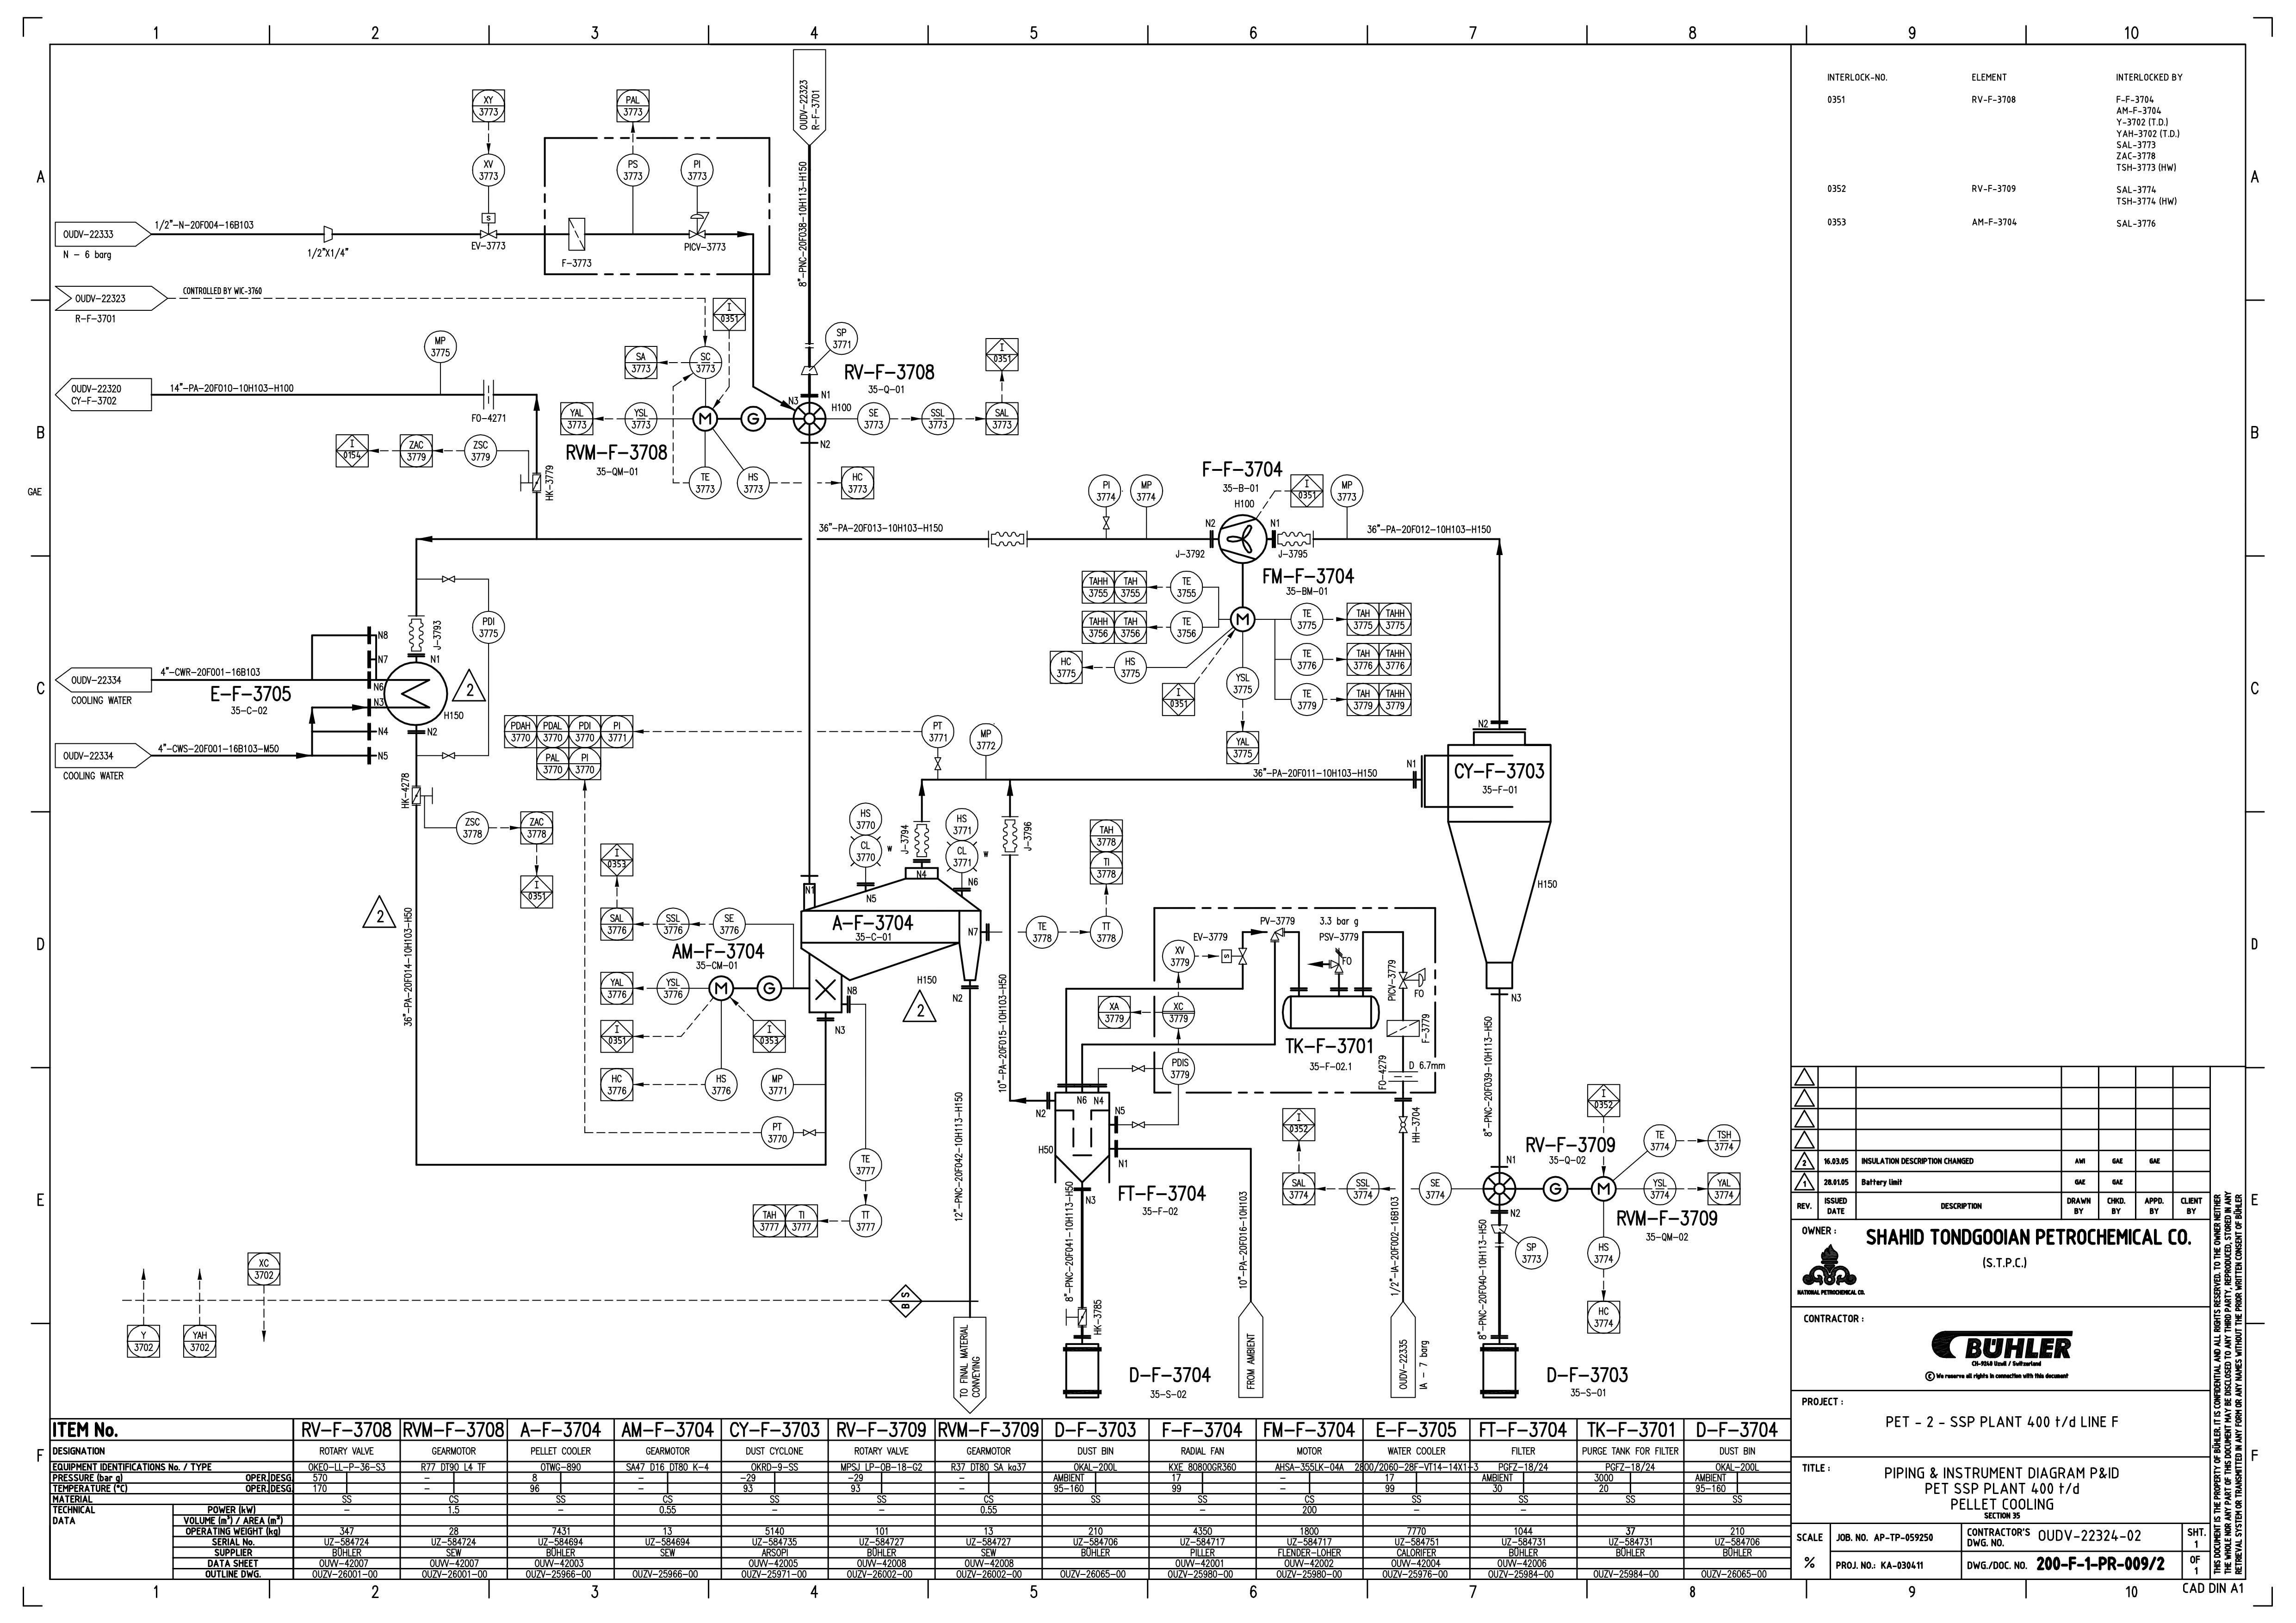A2: (798, 864, 984, 1013)
BV: (518, 469, 545, 495), (1061, 1305, 1089, 1328), (411, 783, 436, 808)
BV2: (1397, 1114, 1411, 1136)
CY: (1419, 724, 1555, 991)
D2: (1061, 1342, 1108, 1403), (1477, 1338, 1523, 1400)
EJ: (1000, 813, 1021, 859), (912, 819, 933, 861), (1274, 529, 1316, 550), (406, 613, 427, 655), (986, 529, 1029, 548)
F: (1216, 511, 1268, 566)
F2: (564, 216, 588, 253), (1384, 1017, 1421, 1038)
FT2: (1052, 1089, 1114, 1184)
GV: (437, 748, 457, 761), (801, 1126, 819, 1138), (441, 573, 458, 583), (1130, 1063, 1147, 1073), (1101, 515, 1112, 530), (1131, 1119, 1147, 1129)
HE: (383, 660, 450, 727)
M: (1228, 604, 1258, 634)
O: (480, 376, 497, 411), (1386, 1068, 1421, 1084)
PCV: (687, 207, 713, 241), (1398, 966, 1428, 989)
RPV: (1326, 947, 1347, 977), (1265, 926, 1288, 943)
RV1: (789, 399, 827, 437), (1481, 1170, 1516, 1207)
RVM: (692, 404, 768, 436), (706, 973, 783, 1001), (1542, 1175, 1620, 1201)
SP: (1488, 1221, 1511, 1237), (799, 362, 819, 378), (321, 225, 334, 244)
SV: (478, 211, 499, 241), (1221, 945, 1249, 966)
TK: (1279, 994, 1379, 1029)
